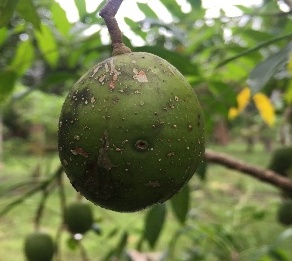Coc: (42, 39, 213, 225)
